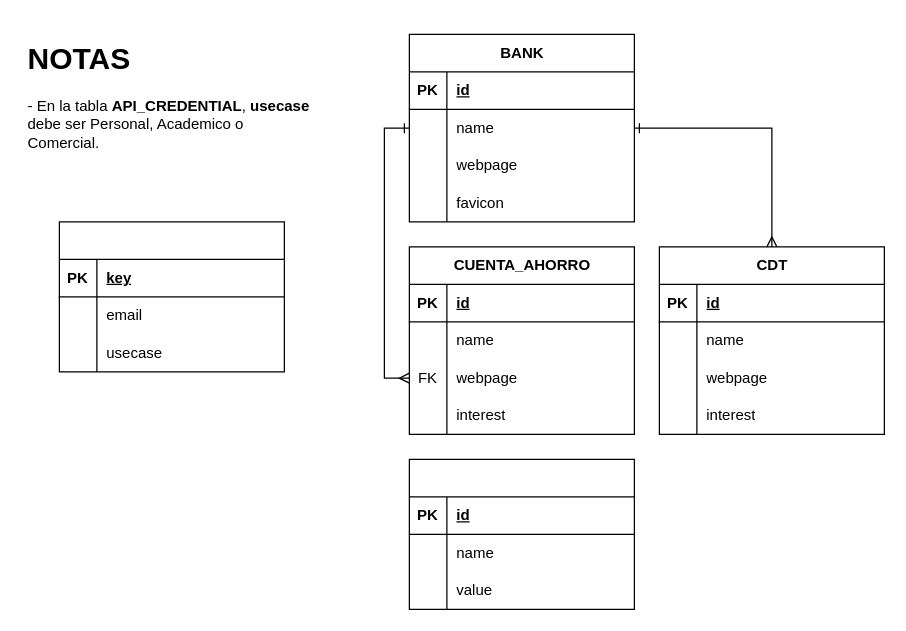
Some shapes in this 906 by 631 pixel diagram are drawn without their labels. The box of each missing label's shape, as (x1, y1, x2, y2) in pixels:
API_CREDENTIAL: (58, 221, 284, 372)
INDICADOR: (408, 458, 634, 609)
